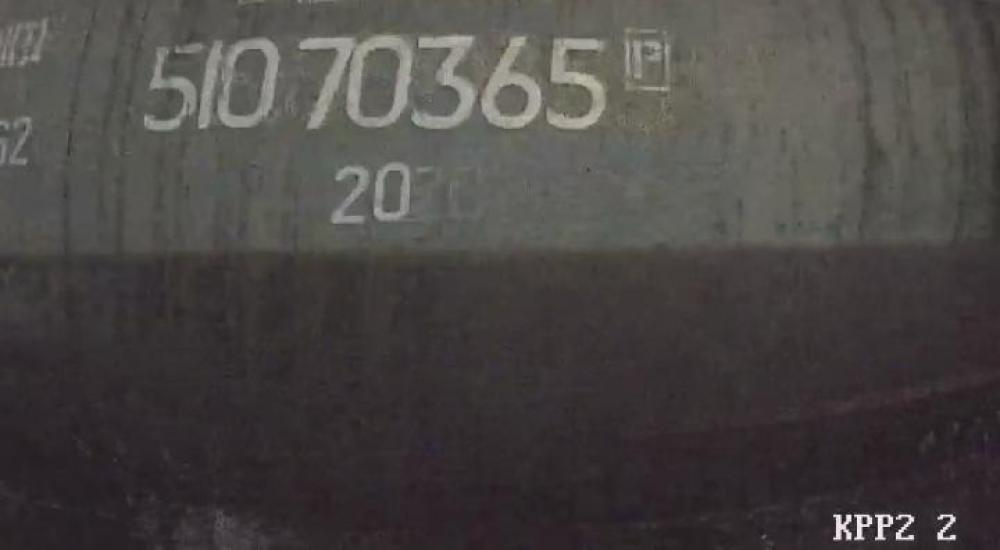Wagon-number: (132, 24, 618, 143)
